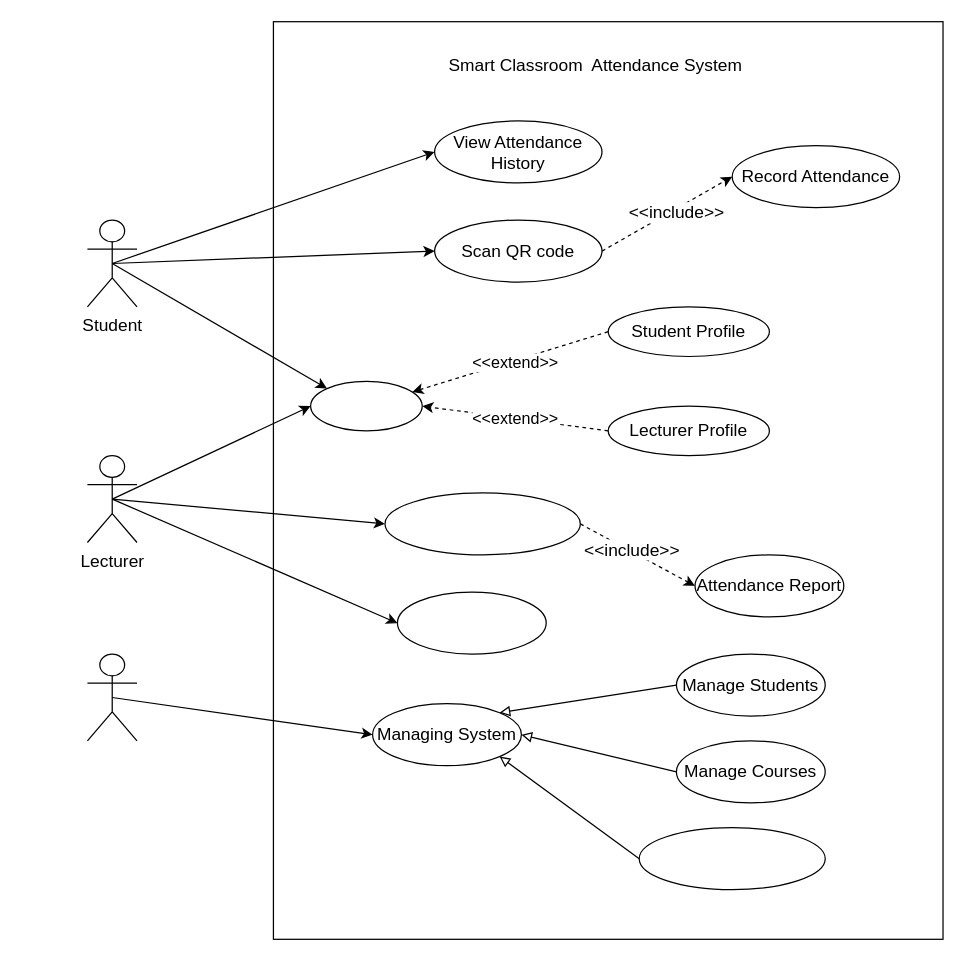
This 965x961 diagram has some shape labels left out. The shapes that lost their labels are listed below. From the top down, each one's box as (x1, y1, x2, y2) in pixels, then its label:
(309, 380, 422, 431): Login
(384, 492, 580, 555): View Attendance list
(396, 591, 546, 654): Generate QR Code
(86, 653, 137, 741): Academic Administrator
(638, 826, 825, 890): Manage Attendance Records
